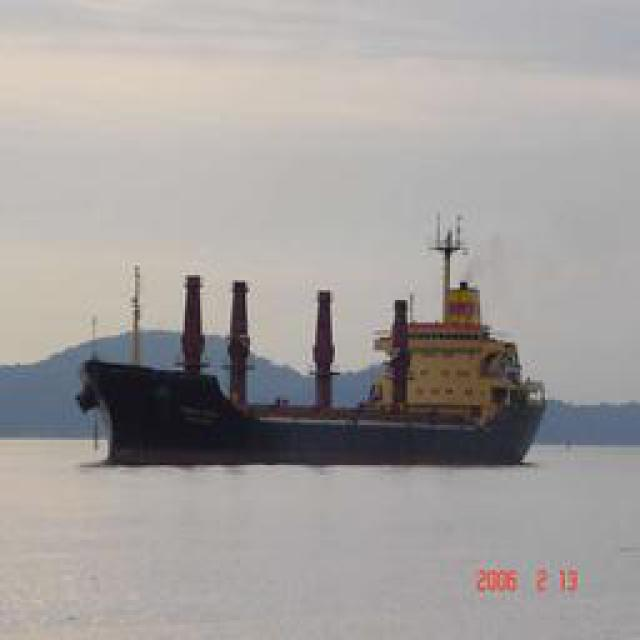Ship: (75, 249, 553, 462)
